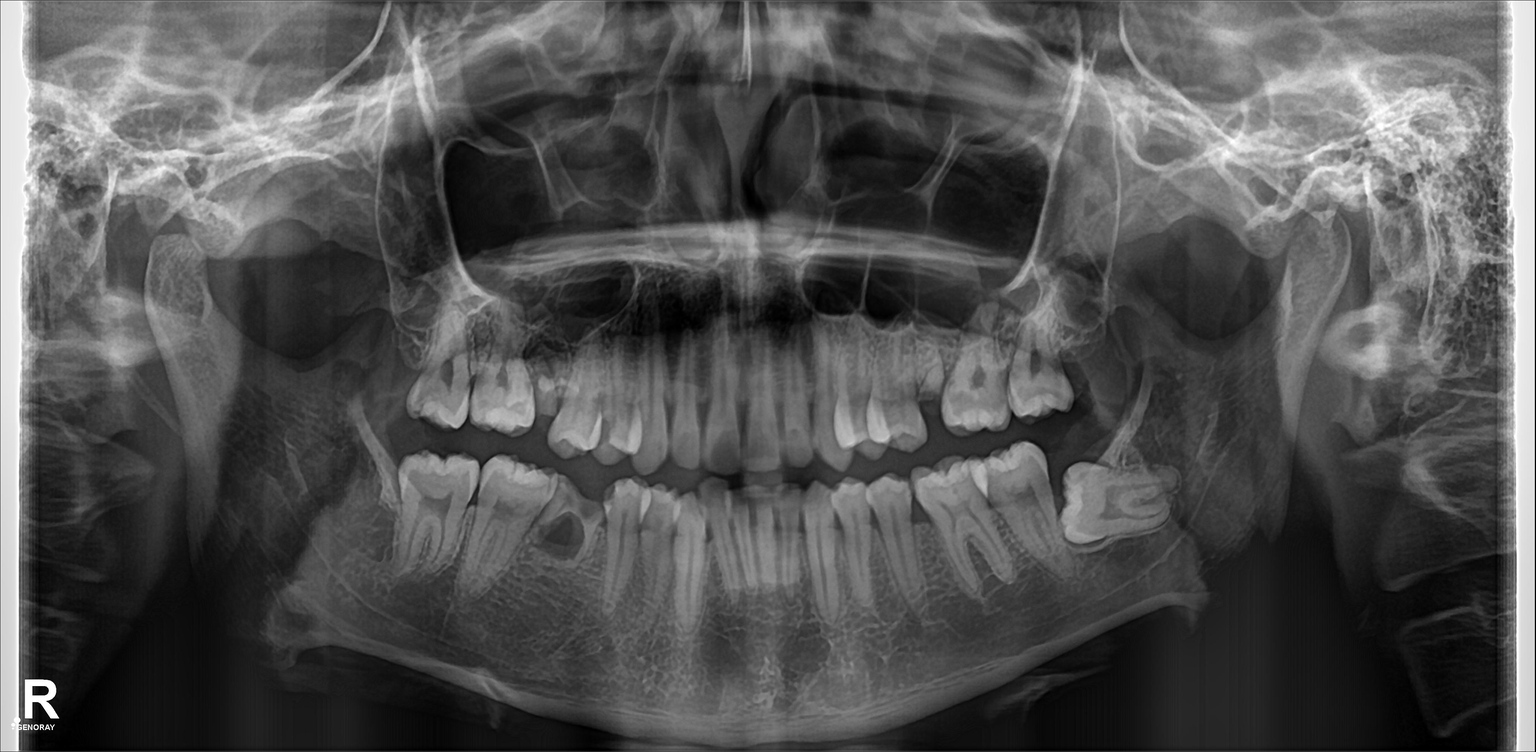Dental Caries: (536, 510, 585, 559)
Impacted Third Molar: (1058, 469, 1177, 544)
Missing Tooth: (376, 315, 420, 413), (1071, 307, 1111, 404)
Retained Root: (911, 341, 948, 422), (531, 339, 557, 435)
